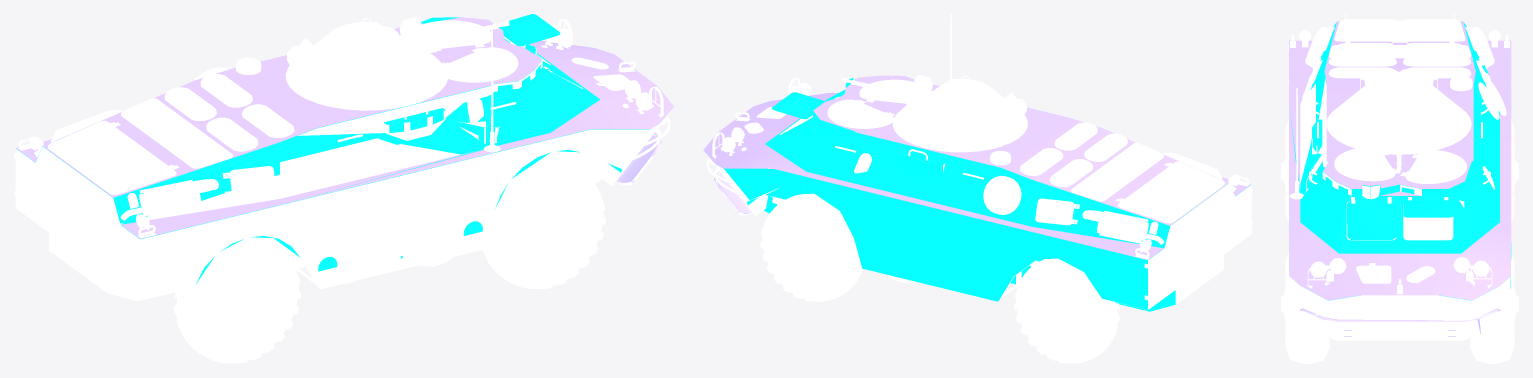
The model's file is BRDM2.gltf.
3 views of the same model, side by side, from view 1: azimuth 30°, elevation 25°; view 2: azimuth 150°, elevation 25°; view 3: azimuth 270°, elevation 25° (orthographic). The views are drawn at different scales.
Visible parts, largest first — view 1: 39, 39_1, brdm_2_col_1, brdm_2_col_2, 39_3, brdm_2_col, 39_4, brdm-2_driverflap_col_23, brdm-2_watershield_col_11; view 2: 39, brdm_2_col, 39_1, brdm_2_col_2, brdm_2_col_1, 39_3, 39_4, brdm-2_driverflap_col_23, brdm-2_watershield_col_11; view 3: 39, brdm_2_col_1, brdm_2_col_2, 39_3, 39_1, 39_4, brdm-2_driverflap_col_23, brdm-2_watershield_col_11.
Part boxes in pixels (<box>): 39: <box>14,19,674,301</box>; 39_1: <box>174,159,606,363</box>; brdm_2_col_1: <box>16,17,674,238</box>; brdm_2_col_2: <box>113,17,599,224</box>; 39_3: <box>285,18,447,110</box>; brdm_2_col: <box>16,125,656,284</box>; 39_4: <box>392,17,509,54</box>; brdm-2_driverflap_col_23: <box>499,14,560,46</box>; brdm-2_watershield_col_11: <box>617,133,661,182</box>; 39: <box>704,14,1252,311</box>; brdm_2_col: <box>717,165,1250,311</box>; 39_1: <box>760,193,1119,363</box>; brdm_2_col_2: <box>765,78,1170,247</box>; brdm_2_col_1: <box>703,75,1250,259</box>; 39_3: <box>892,75,1027,152</box>; 39_4: <box>841,75,943,102</box>; brdm-2_driverflap_col_23: <box>772,92,825,119</box>; brdm-2_watershield_col_11: <box>714,172,751,213</box>; 39: <box>1288,14,1511,340</box>; brdm_2_col_1: <box>1289,21,1511,300</box>; brdm_2_col_2: <box>1289,22,1499,253</box>; 39_3: <box>1326,69,1471,154</box>; 39_1: <box>1281,120,1518,363</box>; 39_4: <box>1374,101,1413,171</box>; brdm-2_driverflap_col_23: <box>1403,200,1453,217</box>; brdm-2_watershield_col_11: <box>1300,308,1499,336</box>.
Size of what is drawn, in the model's own units: 5.74 by 2.68 by 2.35.
